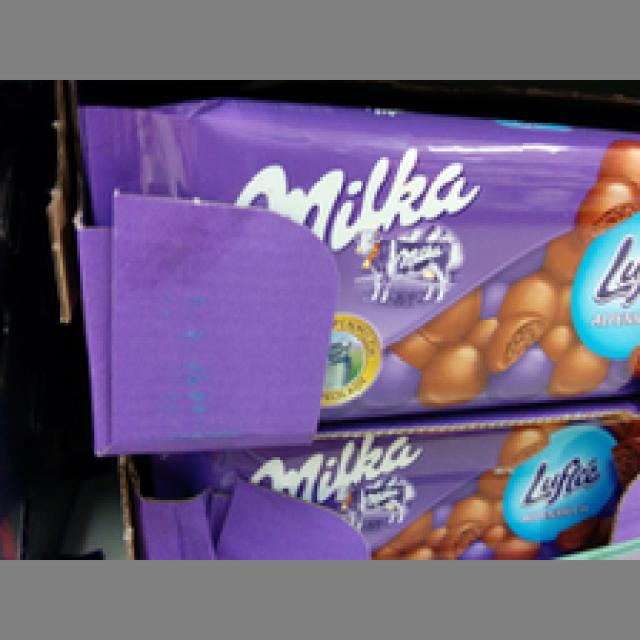groceries: (80, 92, 637, 408), (154, 417, 637, 560)
